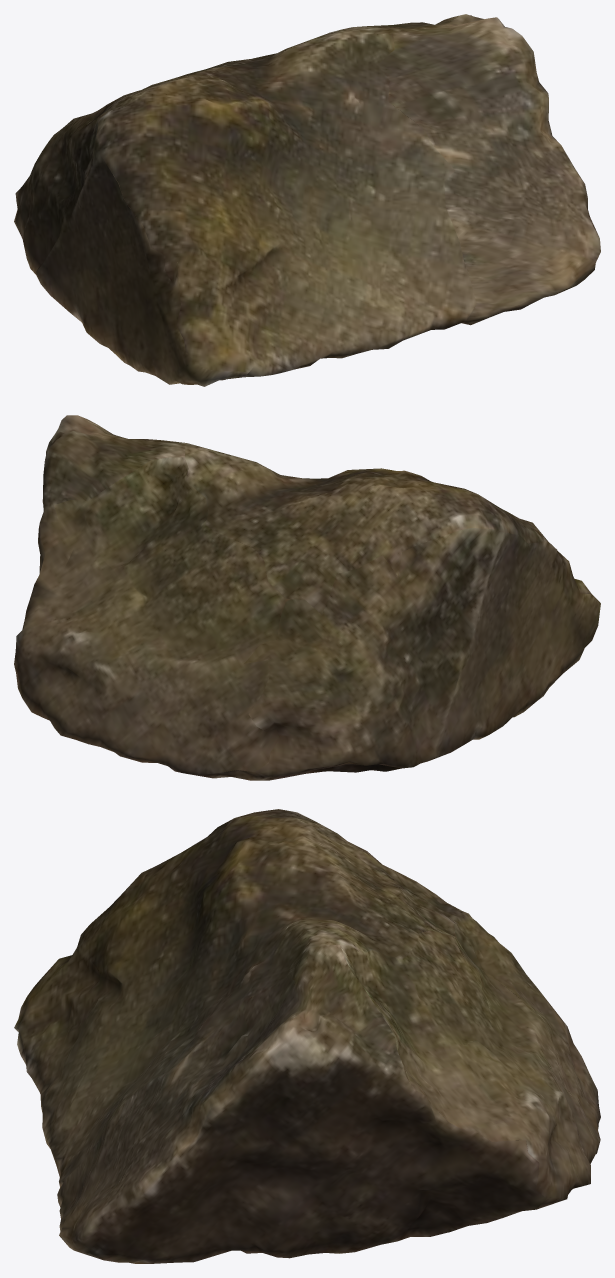
Rendered from cc0_moss_rock_a.glb.
3 renders of one model, top to bottom at view 1: azimuth 30°, elevation 25°; view 2: azimuth 150°, elevation 25°; view 3: azimuth 270°, elevation 25°, orthographic. The views are drawn at different scales.
Parts seen in each view (by area): view 1: cc0_moss_rock_a; view 2: cc0_moss_rock_a; view 3: cc0_moss_rock_a.
Part boxes in pixels (x1,y1,x2,y2): cc0_moss_rock_a: [14, 14, 600, 386]; cc0_moss_rock_a: [14, 415, 600, 780]; cc0_moss_rock_a: [14, 809, 600, 1263].
Bounding box in the file's own units: 0.8013 × 0.4181 × 0.7902.
1 material, 1 textured.
